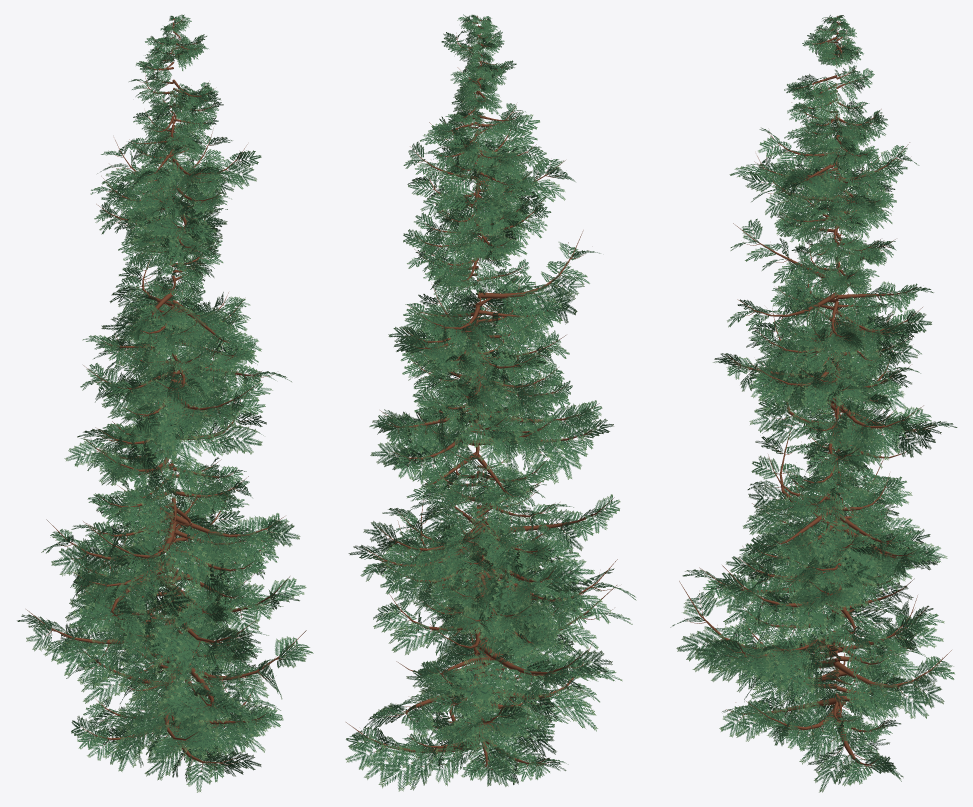
The model's file is forest-giant-lod0.meshopt.glb.
3 views of the same model, side by side, from view 1: azimuth 30°, elevation 25°; view 2: azimuth 150°, elevation 25°; view 3: azimuth 270°, elevation 25° (orthographic). The views are drawn at different scales.
Visible parts, largest first — view 1: redwood-crown; view 2: redwood-crown; view 3: redwood-crown.
Part boxes in pixels (x1=…): redwood-crown: x1=17, y1=14, x2=313, y2=792; redwood-crown: x1=345, y1=14, x2=636, y2=791; redwood-crown: x1=670, y1=15, x2=957, y2=792.
Bounding box in the file's own units: 21.9 × 61.26 × 21.78.
Materials: 7 (3 with a texture image).
